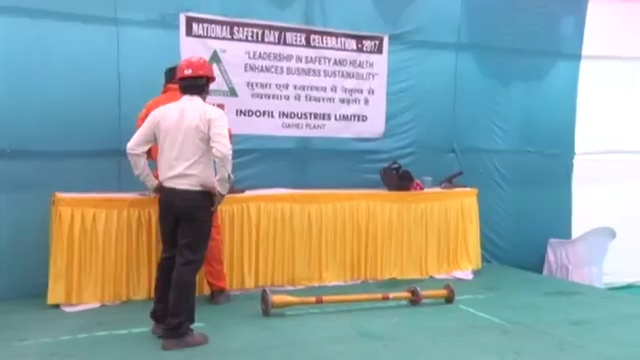helmet: (174, 54, 217, 84)
helmet_off: (163, 64, 180, 87)
helmet_on: (172, 53, 216, 100)
person: (127, 53, 232, 353), (142, 67, 231, 300)
